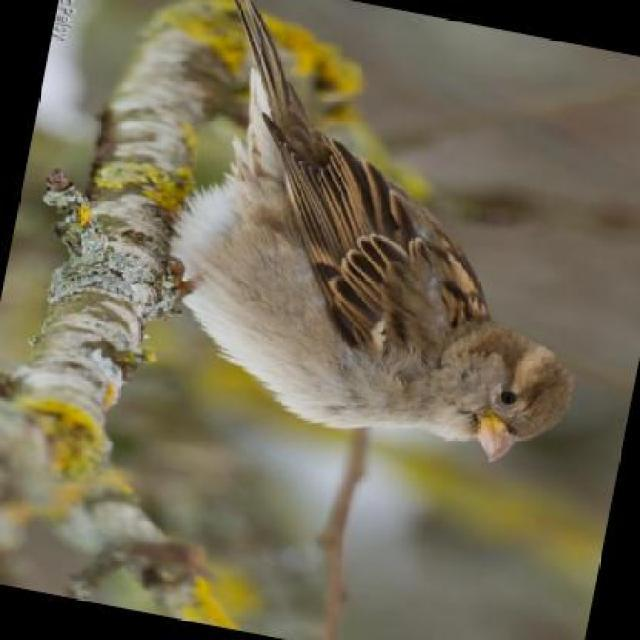Bird: (208, 0, 615, 539)
